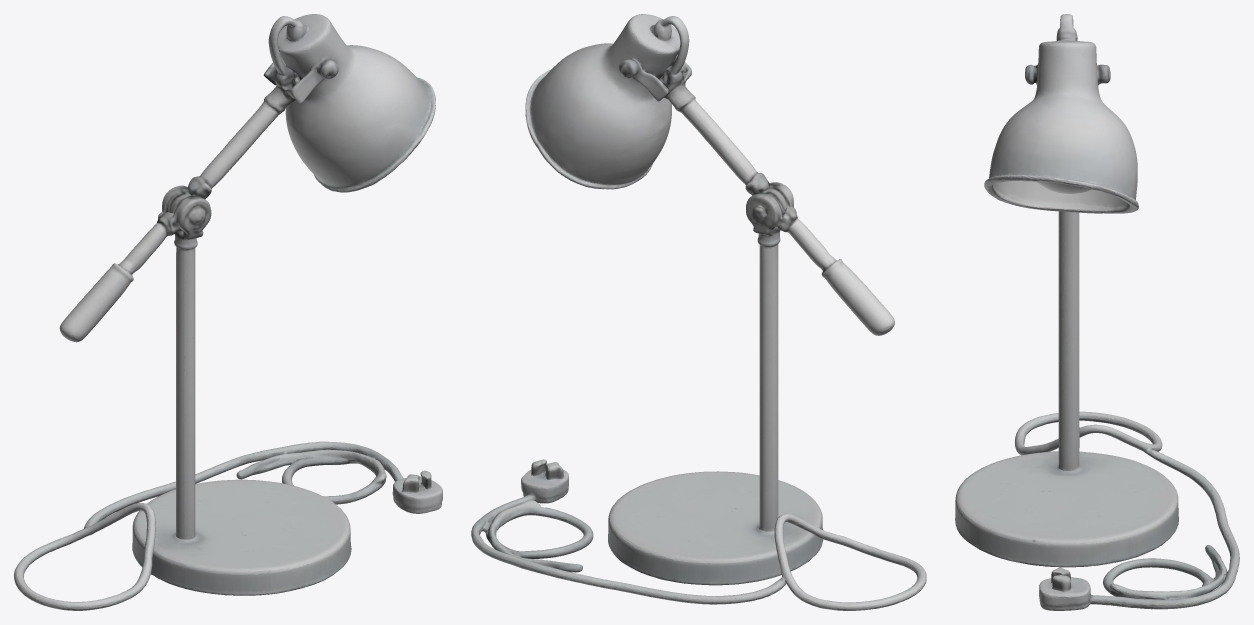
The model's file is model-slim.glb.
3 renders of one model, left to right at view 1: azimuth 30°, elevation 25°; view 2: azimuth 150°, elevation 25°; view 3: azimuth 270°, elevation 25°, orthographic. The views are drawn at different scales.
Bounding box in the file's own units: 0.3892 × 0.48 × 0.2343.
1 material, 1 textured.
